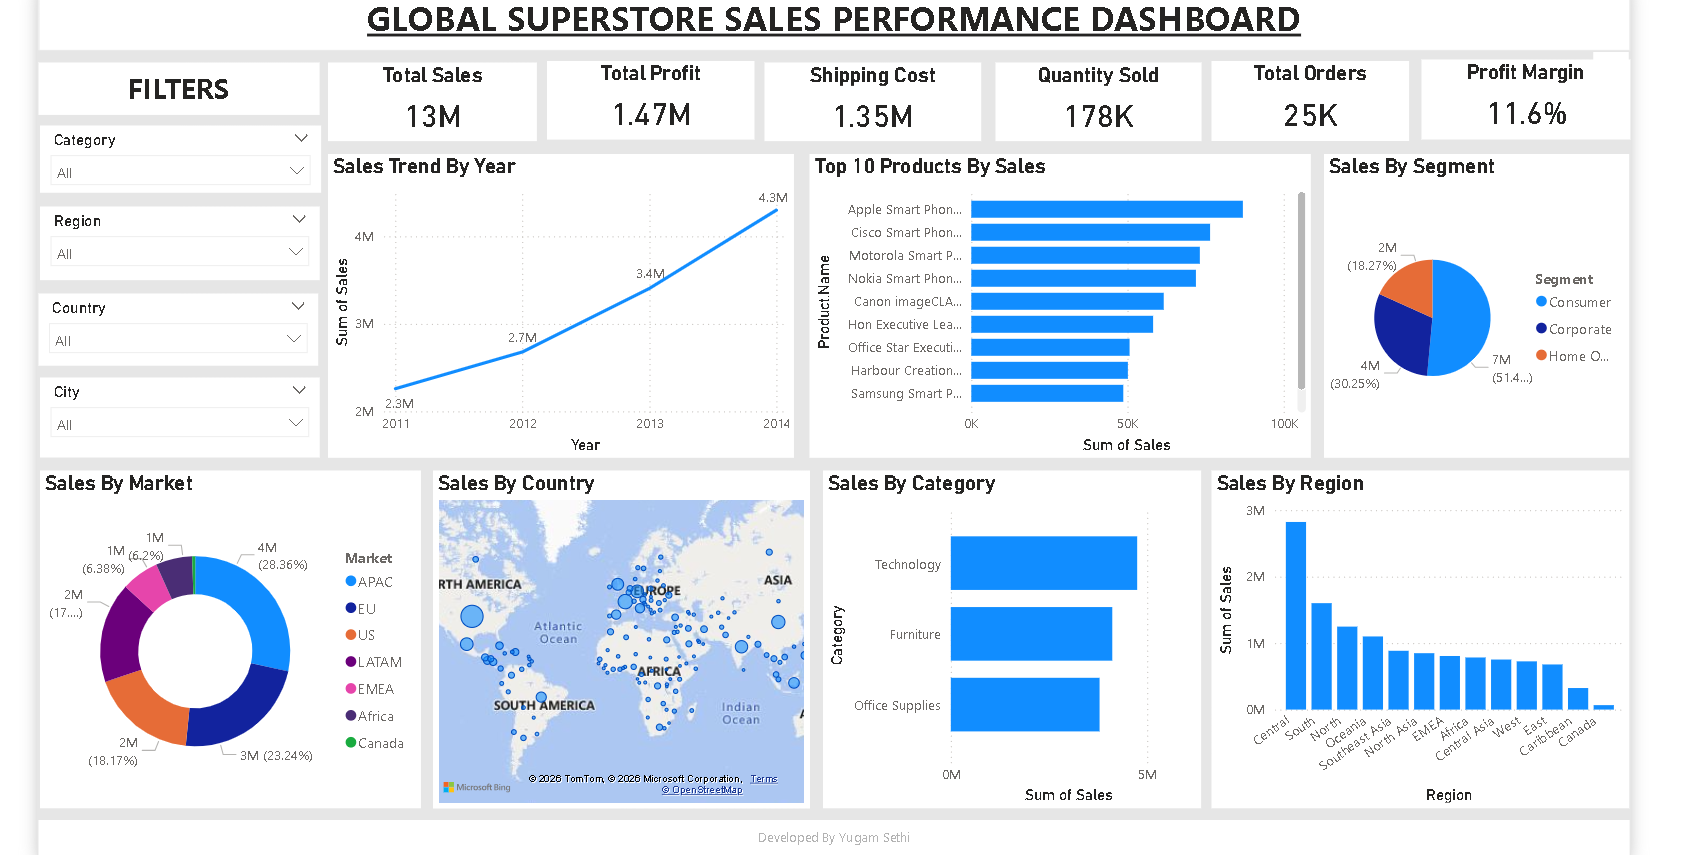

Layout of this report page (visuals, bound fields, positions):
{"tool":"powerbi","page":{"name":"Page 1","canvas":[1500,820],"ordinal":0},"visuals":[{"type":"clusteredBarChart","title":"Sales By Category","fields":{"Category":["superstore.Category"],"Y":["Sum(superstore.Sales)"]},"box":[740,453.3,355.9,317.7],"z":0},{"type":"lineChart","title":"Sales Trend By Year","fields":{"Category":["superstore.Order.Date.Variation.Date Hierarchy.Year","superstore.Order.Date.Variation.Date Hierarchy.Quarter","superstore.Order.Date.Variation.Date Hierarchy.Month","superstore.Order.Date.Variation.Date Hierarchy.Day"],"Y":["Sum(superstore.Sales)"]},"box":[273.9,155.9,438.8,286],"z":1000},{"type":"pieChart","title":"Sales By Segment","fields":{"Category":["superstore.Segment"],"Y":["Sum(superstore.Sales)"]},"box":[1212,155.9,287.5,286],"z":2000},{"type":"map","title":"Sales By Country","fields":{"Category":["superstore.Country"],"Size":["Sum(superstore.Sales)"]},"box":[372.8,453.3,354.5,317.7],"z":3000},{"type":"slicer","fields":{"Values":["superstore.Country"]},"box":[1.5,286,263.3,68.1],"z":4000},{"type":"clusteredColumnChart","title":"Sales By Region","fields":{"Category":["superstore.Region"],"Y":["Sum(superstore.Sales)"]},"box":[1106.1,453.9,393.4,317.8],"z":5000},{"type":"donutChart","title":"Sales By Market","fields":{"Category":["superstore.Market"],"Y":["Sum(superstore.Sales)"]},"box":[2.8,453.3,358.7,317.7],"z":6000},{"type":"textbox","box":[1.5,0,1498,57.5],"z":7000},{"type":"slicer","fields":{"Values":["superstore.Category"]},"box":[3,128.6,264.8,63.6],"z":8000},{"type":"slicer","fields":{"Values":["superstore.Region"]},"box":[3,204.3,263.3,69.6],"z":9000},{"type":"card","title":"Quantity Sold","fields":{"Values":["Sum(superstore.Quantity)"]},"box":[901.8,69.6,193.7,74.1],"z":10000},{"type":"card","title":"Shipping Cost","fields":{"Values":["Sum(superstore.Shipping.Cost)"]},"box":[685.4,69.6,204.3,74.1],"z":11000},{"type":"card","title":"Total Profit","fields":{"Values":["Sum(superstore.Profit)"]},"box":[479.7,68.1,195.2,74.1],"z":12000},{"type":"slicer","fields":{"Values":["superstore.City"]},"box":[3,366.2,263.3,75.7],"z":13000},{"type":"textbox","box":[1.3,69.7,264.7,49.1],"z":14000},{"type":"card","title":"Profit Margin","fields":{"Values":["superstore.Profit Margin %"]},"box":[1302.8,66.6,196.7,75.7],"z":15000},{"type":"card","title":"Total Orders","fields":{"Values":["superstore.Total Orders"]},"box":[1106.1,68.1,186.1,75.7],"z":16000},{"type":"clusteredBarChart","title":"Top 10 Products By Sales","fields":{"Category":["superstore.Product.Name"],"Y":["Sum(superstore.Sales)"]},"box":[727.8,155.9,472.1,286],"z":17000},{"type":"card","title":"Total Sales","fields":{"Values":["Sum(superstore.Sales)"]},"box":[273.9,69.6,196.7,74.1],"z":18000},{"type":"textbox","box":[1.5,782.3,1498,37.8],"z":18001}]}

Visuals, with their boxes on the page's 1500x820 design canvas (x1, y1, x2, y2). These are canvas units, not pixel positions in the 1684x855 screenshot, which may show the page scaled, cropped or inside an application window:
"Sales By Category" clusteredBarChart: bbox=[740, 453, 1096, 771]
"Sales Trend By Year" lineChart: bbox=[274, 156, 713, 442]
"Sales By Segment" pieChart: bbox=[1212, 156, 1500, 442]
"Sales By Country" map: bbox=[373, 453, 727, 771]
slicer - superstore.Country: bbox=[2, 286, 265, 354]
"Sales By Region" clusteredColumnChart: bbox=[1106, 454, 1500, 772]
"Sales By Market" donutChart: bbox=[3, 453, 362, 771]
textbox: bbox=[2, 0, 1500, 58]
slicer - superstore.Category: bbox=[3, 129, 268, 192]
slicer - superstore.Region: bbox=[3, 204, 266, 274]
"Quantity Sold" card: bbox=[902, 70, 1096, 144]
"Shipping Cost" card: bbox=[685, 70, 890, 144]
"Total Profit" card: bbox=[480, 68, 675, 142]
slicer - superstore.City: bbox=[3, 366, 266, 442]
textbox: bbox=[1, 70, 266, 119]
"Profit Margin" card: bbox=[1303, 67, 1500, 142]
"Total Orders" card: bbox=[1106, 68, 1292, 144]
"Top 10 Products By Sales" clusteredBarChart: bbox=[728, 156, 1200, 442]
"Total Sales" card: bbox=[274, 70, 471, 144]
textbox: bbox=[2, 782, 1500, 820]
